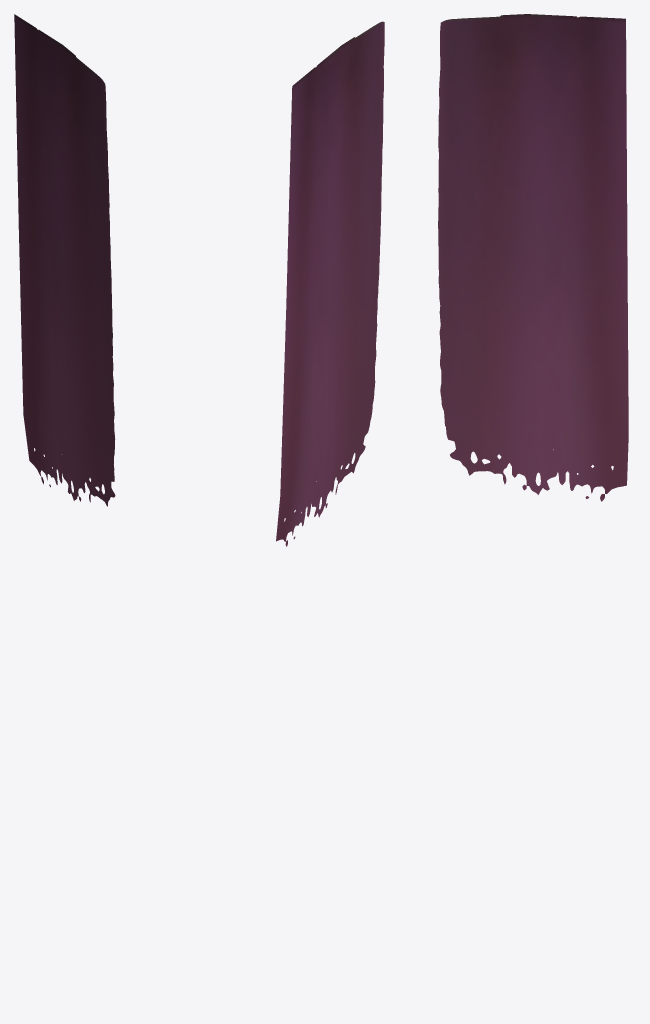
Rendered from Curtain_001.FBX.
The picture shows the model from 3 angles, left to right: view 1: azimuth 30°, elevation 25°; view 2: azimuth 150°, elevation 25°; view 3: azimuth 270°, elevation 25°; orthographic projection.
Parts seen in each view (by area): view 1: Curtain_001; view 2: Curtain_001; view 3: Curtain_001.
Boxes of the visible parts, left/top/right/bottom form: Curtain_001: left=14, top=14, right=115, bottom=506; Curtain_001: left=276, top=21, right=384, bottom=546; Curtain_001: left=438, top=14, right=628, bottom=501.
Bounding box in the file's own units: 71.13 × 906 × 185.
